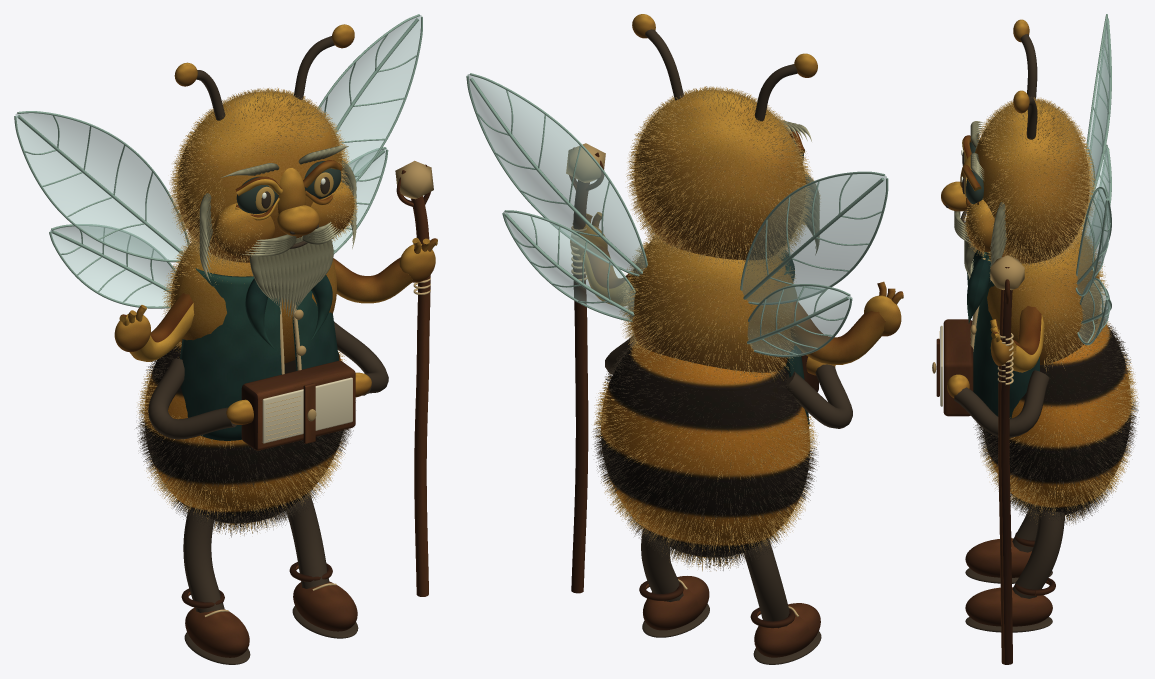
Rendered from elder-clover.glb.
3 renders of one model, left to right at view 1: azimuth 30°, elevation 25°; view 2: azimuth 150°, elevation 25°; view 3: azimuth 270°, elevation 25°, orthographic. The views are drawn at different scales.
Parts seen in each view (by area): view 1: Striped abdomen, Forewing, Elder head, Teal waistcoat panel, Striped bumblebee abdomen fuzz, Forewing.001, Soft head fuzz, Hind wing, Walking staff, Velvet thorax, Journal page block, Journal leather cover (+25 smaller); view 2: Striped abdomen, Elder head, Velvet thorax, Striped bumblebee abdomen fuzz, Forewing.001, Soft head fuzz, Forewing, Hind wing.001, Shoulder and thorax fuzz, Hind wing, Walking staff, Left upper arm (+15 smaller); view 3: Striped abdomen, Elder head, Striped bumblebee abdomen fuzz, Soft head fuzz, Velvet thorax, Walking staff, Teal waistcoat panel.001, Lower bee arm.001, Shoulder and thorax fuzz, Journal leather cover, Hind leg.001, Walking boot.001 (+21 smaller).
Part boxes in pixels (box(x1,y1,x2,y2)): Striped abdomen: box(144, 341, 343, 523); Forewing: box(15, 113, 187, 259); Elder head: box(176, 91, 342, 262); Teal waistcoat panel: box(180, 268, 281, 440); Striped bumblebee abdomen fuzz: box(136, 345, 353, 537); Forewing.001: box(320, 15, 421, 179); Soft head fuzz: box(168, 87, 350, 270); Hind wing: box(50, 226, 174, 306); Walking staff: box(411, 196, 430, 596); Velvet thorax: box(171, 243, 336, 363); Journal page block: box(262, 377, 352, 443); Journal leather cover: box(241, 360, 355, 450); Striped abdomen: box(600, 343, 810, 557); Elder head: box(634, 90, 805, 260); Velvet thorax: box(628, 236, 797, 372); Striped bumblebee abdomen fuzz: box(592, 338, 819, 571); Forewing.001: box(467, 74, 645, 274); Soft head fuzz: box(626, 86, 812, 270); Forewing: box(742, 174, 886, 303); Hind wing.001: box(503, 212, 634, 320); Shoulder and thorax fuzz: box(619, 234, 795, 380); Hind wing: box(747, 286, 851, 355); Walking staff: box(571, 180, 589, 593); Left upper arm: box(790, 301, 885, 365); Striped abdomen: box(983, 320, 1131, 514); Elder head: box(975, 100, 1089, 263); Striped bumblebee abdomen fuzz: box(973, 313, 1139, 525); Soft head fuzz: box(977, 97, 1095, 271); Velvet thorax: box(987, 233, 1100, 364); Walking staff: box(998, 289, 1012, 664); Teal waistcoat panel.001: box(973, 256, 1039, 418); Lower bee arm.001: box(954, 370, 1049, 437); Shoulder and thorax fuzz: box(983, 230, 1107, 371); Journal leather cover: box(943, 319, 973, 416); Hind leg.001: box(1012, 511, 1065, 598); Walking boot.001: box(965, 587, 1052, 626).
Bounding box in the file's own units: 2.5 × 3.44 × 1.19.
15 materials, 5 textured.
